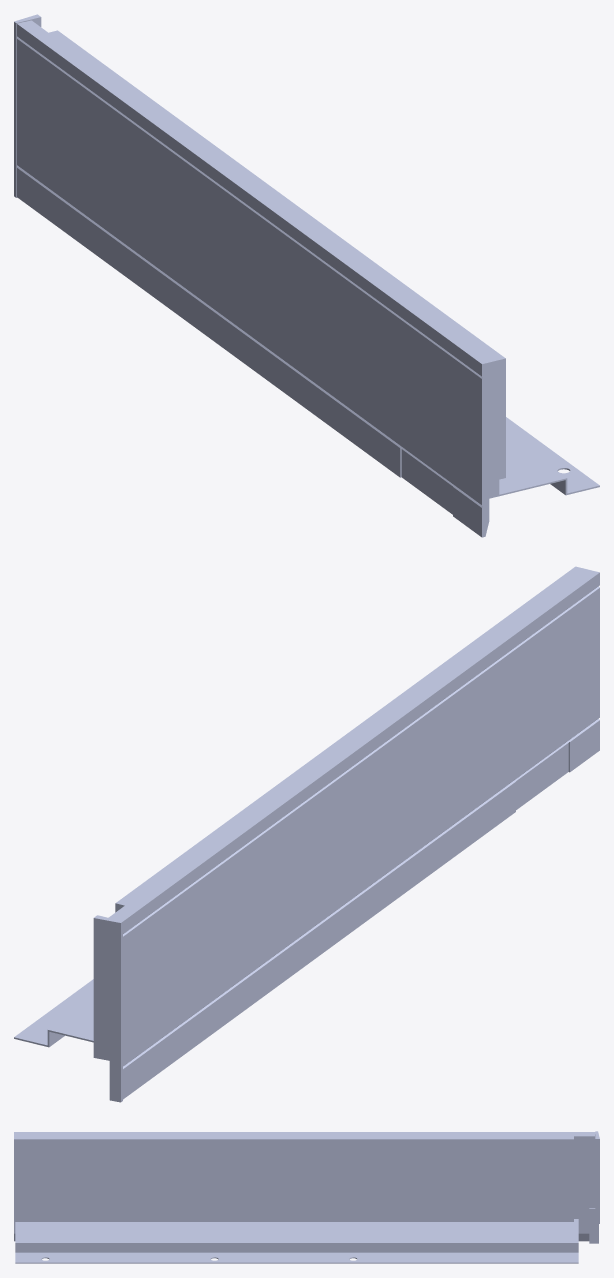
The model's file is lg-kava-M450-p.glb.
The picture shows the model from 3 angles, top to bottom: view 1: azimuth 30°, elevation 25°; view 2: azimuth 150°, elevation 25°; view 3: azimuth 270°, elevation 25°; orthographic projection. The views are drawn at different scales.
Visible parts, largest first — view 1: 42261566; view 2: 42261566; view 3: 42261566.
Part boxes in pixels (box(x1,y1,x2,y2)): 42261566: box(14, 14, 599, 537); 42261566: box(14, 566, 599, 1102); 42261566: box(14, 1131, 599, 1263).
Bounding box in the file's own units: 0.0653 × 0.0912 × 0.4435.
